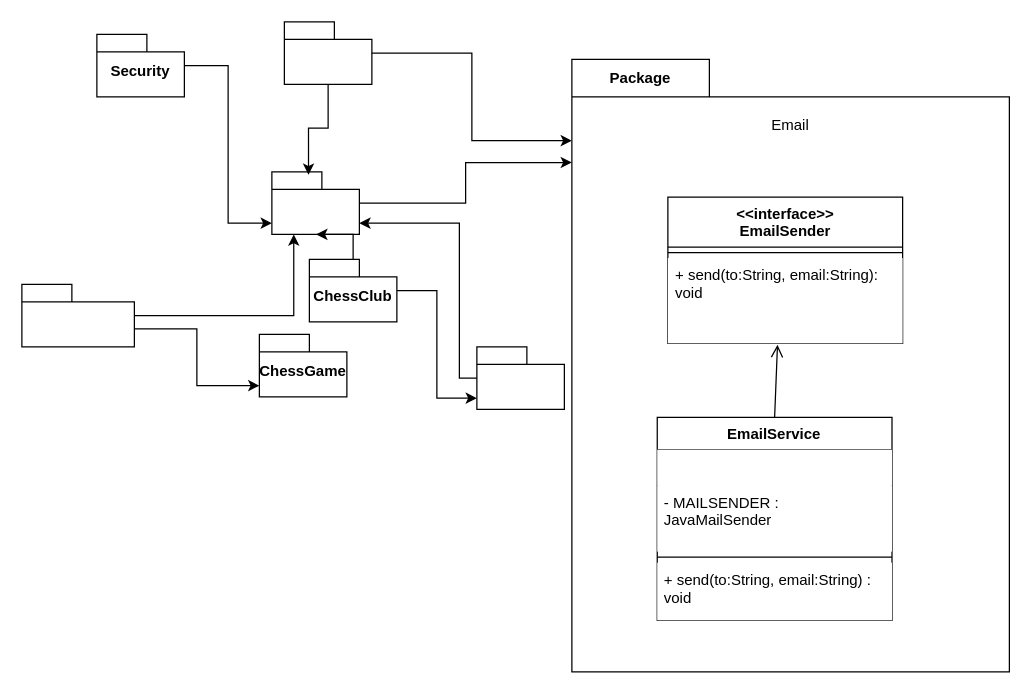
This 1031x694 diagram has some shape labels left out. Here are the shapes that lost their labels. From the top down, the centre of each, then its label:
At [327,52]: "Friendlist".
At [315,202]: "User".
At [77,315]: "Matchmaking".
At [520,377]: "Chat".
At [774,467]: "- UserService : userservie".
